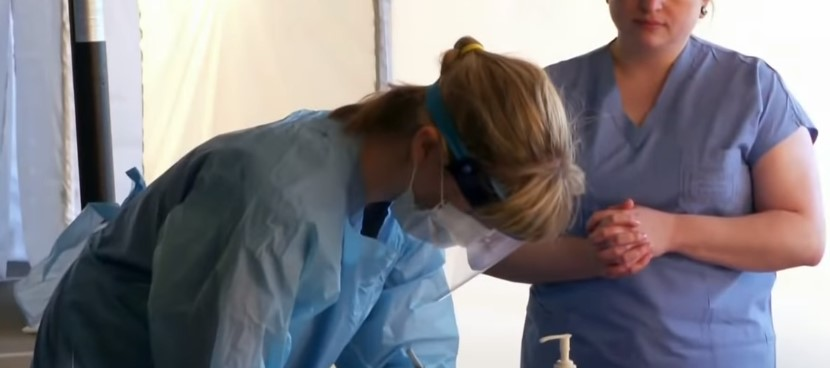face_no_mask: (609, 0, 710, 48)
face_with_mask: (383, 52, 582, 306)
